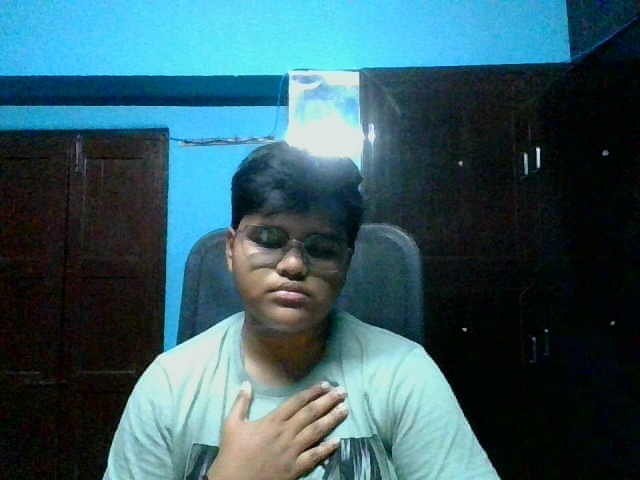PLEASE: (161, 351, 424, 480)
